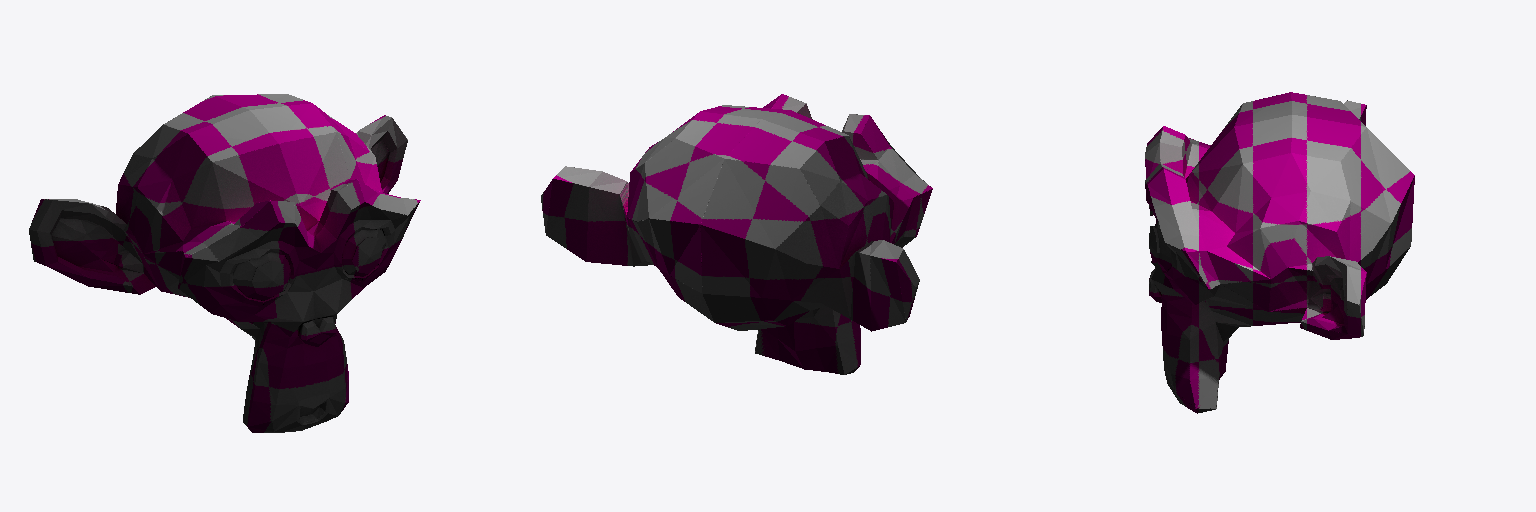
3 views of the same model, side by side, from view 1: azimuth 30°, elevation 25°; view 2: azimuth 150°, elevation 25°; view 3: azimuth 270°, elevation 25° (orthographic).
Parts seen in each view (by area): view 1: Suzanne; view 2: Suzanne; view 3: Suzanne.
Boxes of the visible parts, x1,y1,x2,y2 form: Suzanne: [29, 94, 420, 432]; Suzanne: [541, 94, 932, 374]; Suzanne: [1145, 92, 1414, 413].
Size of the model in its own units: 2.73 by 1.97 by 1.7.
Materials: 1 (1 with a texture image).